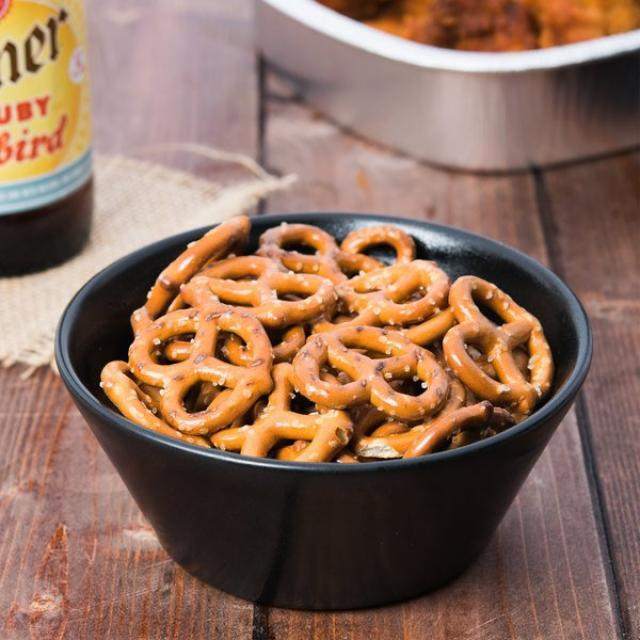Salatini: (96, 210, 556, 462)
